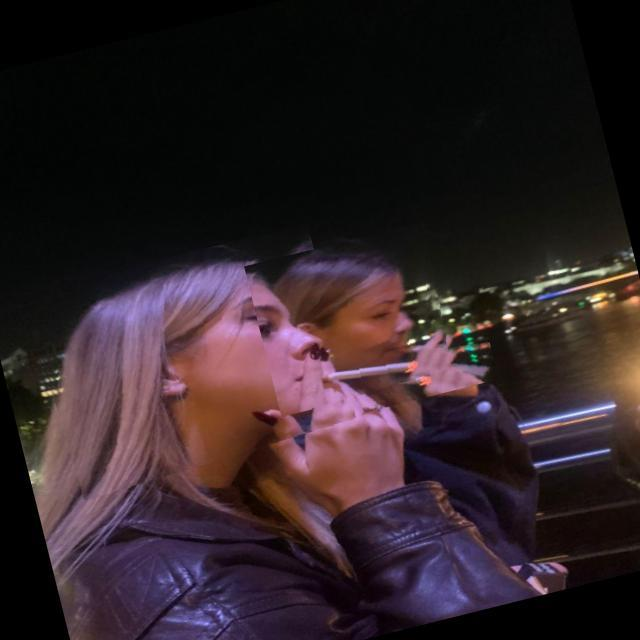cigarette: (312, 322, 499, 422)
